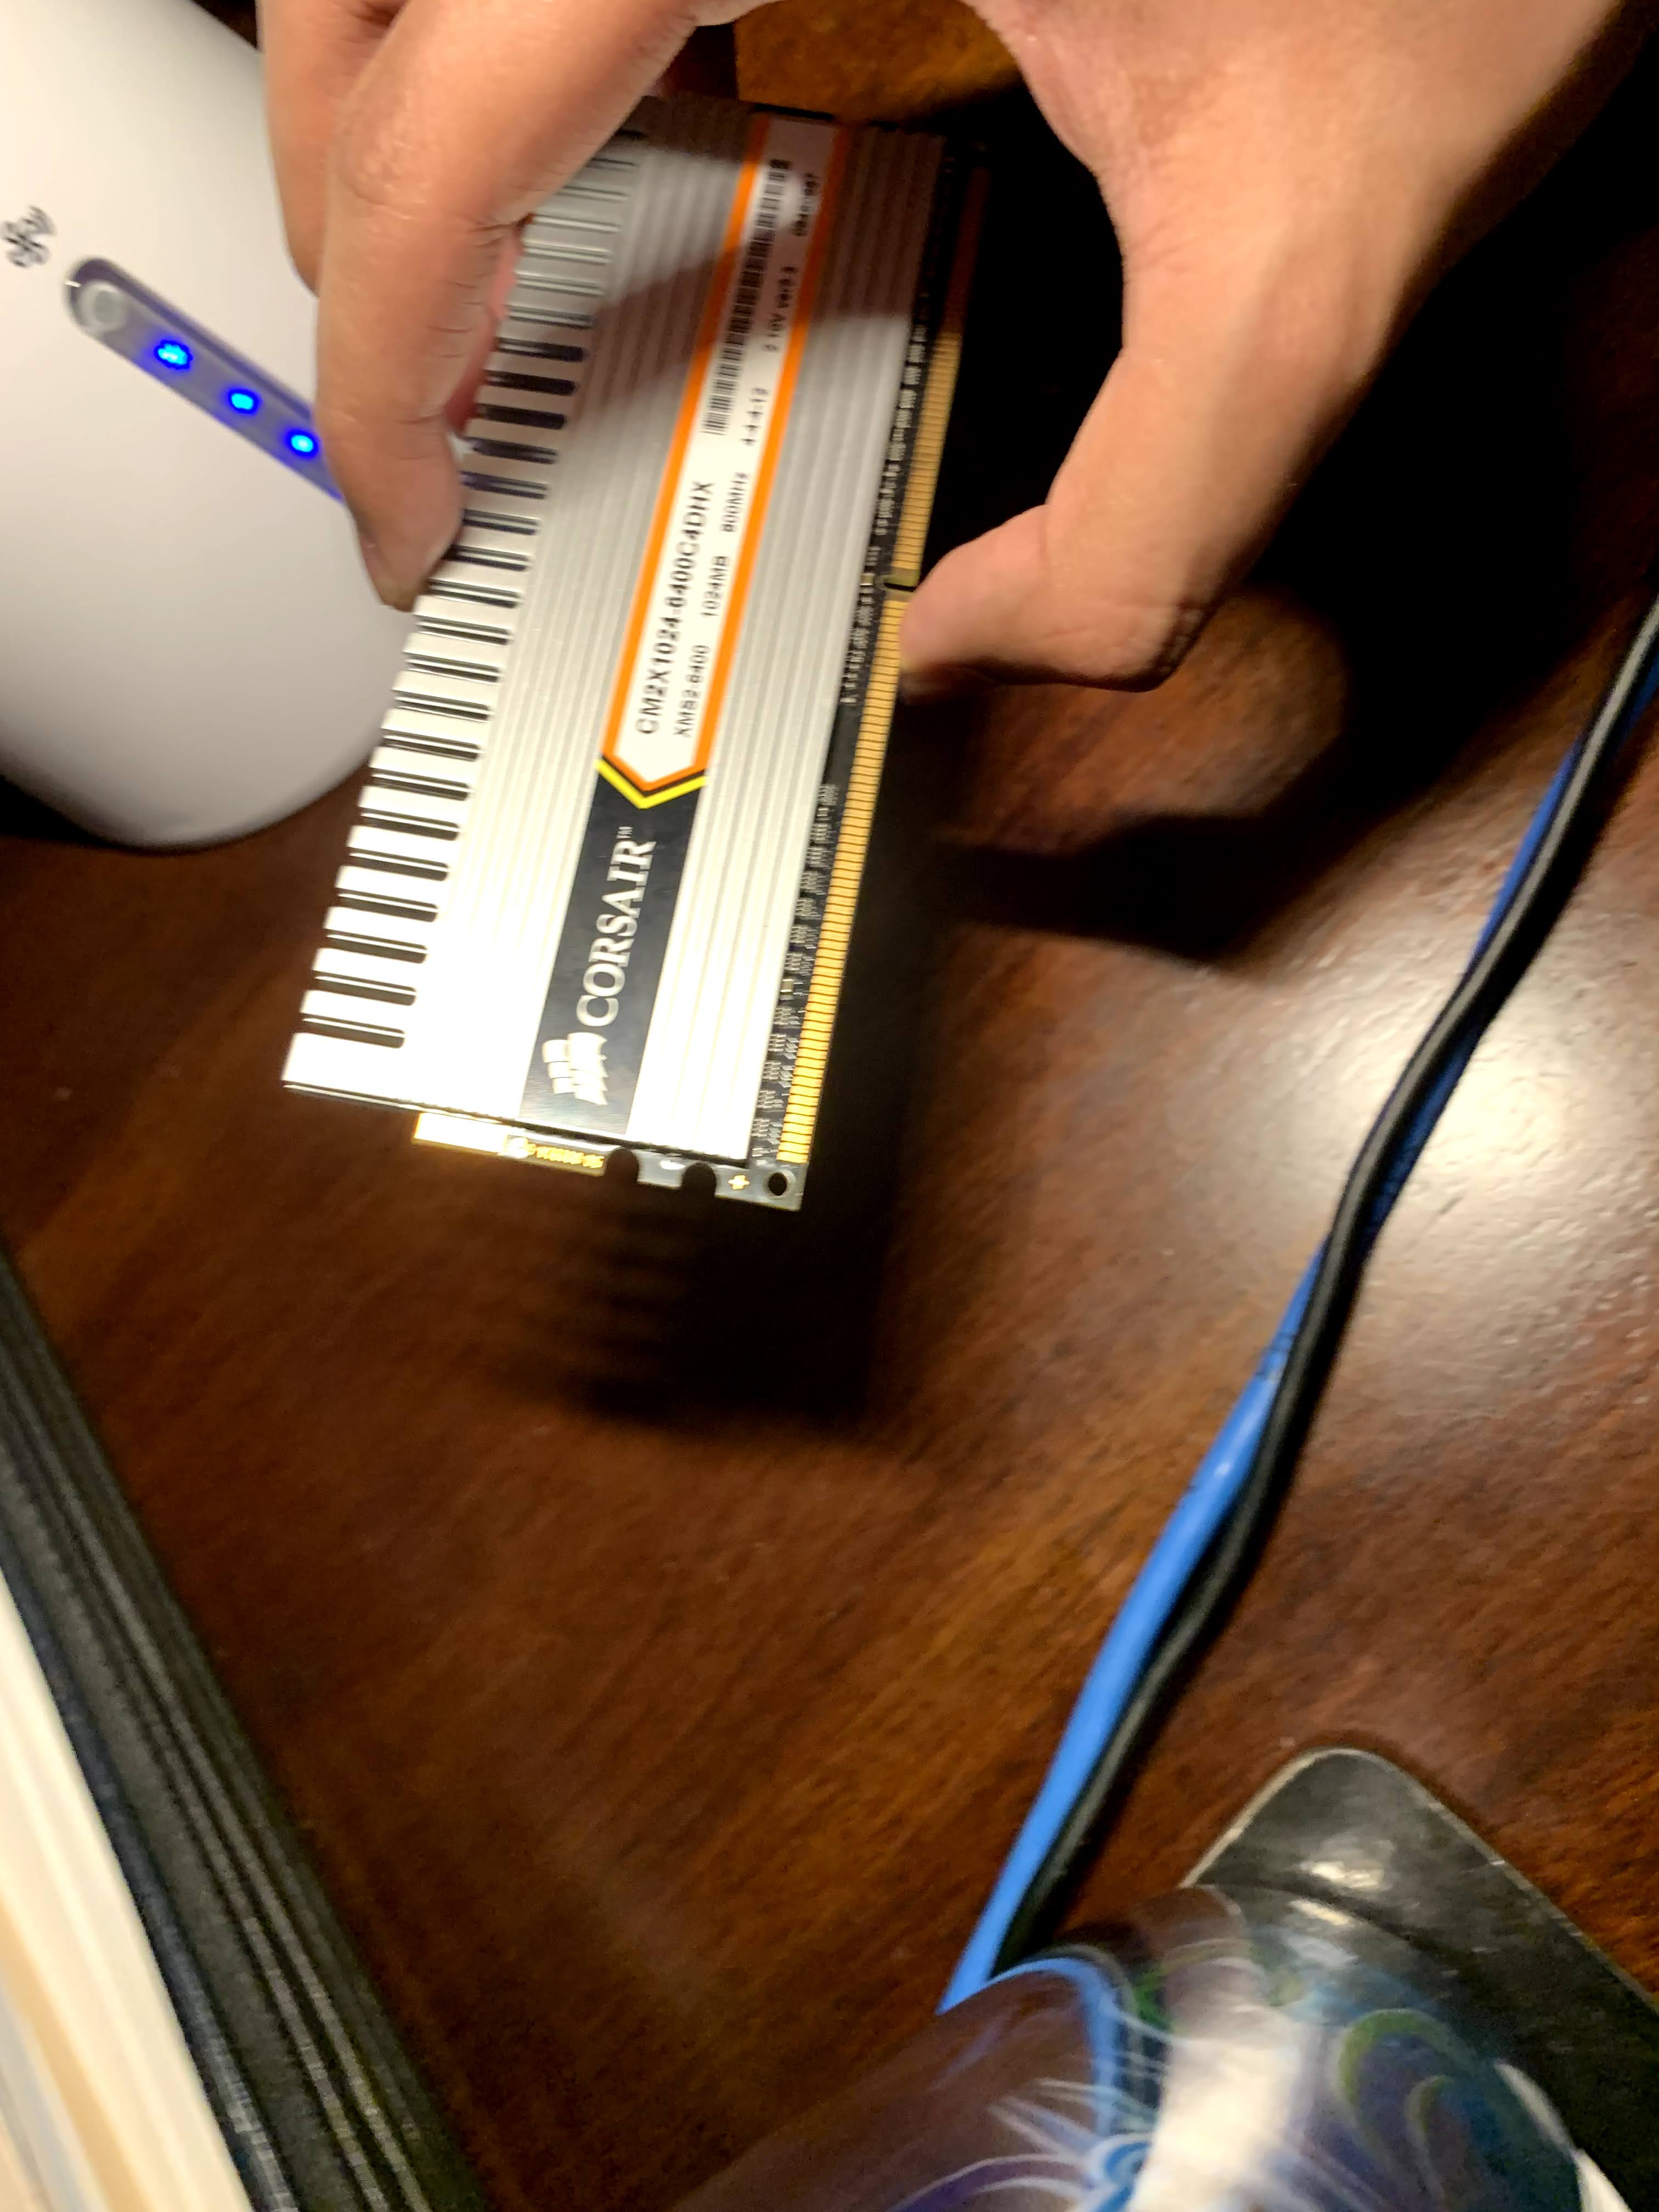Space-debris-medium: (272, 66, 1072, 1231)
